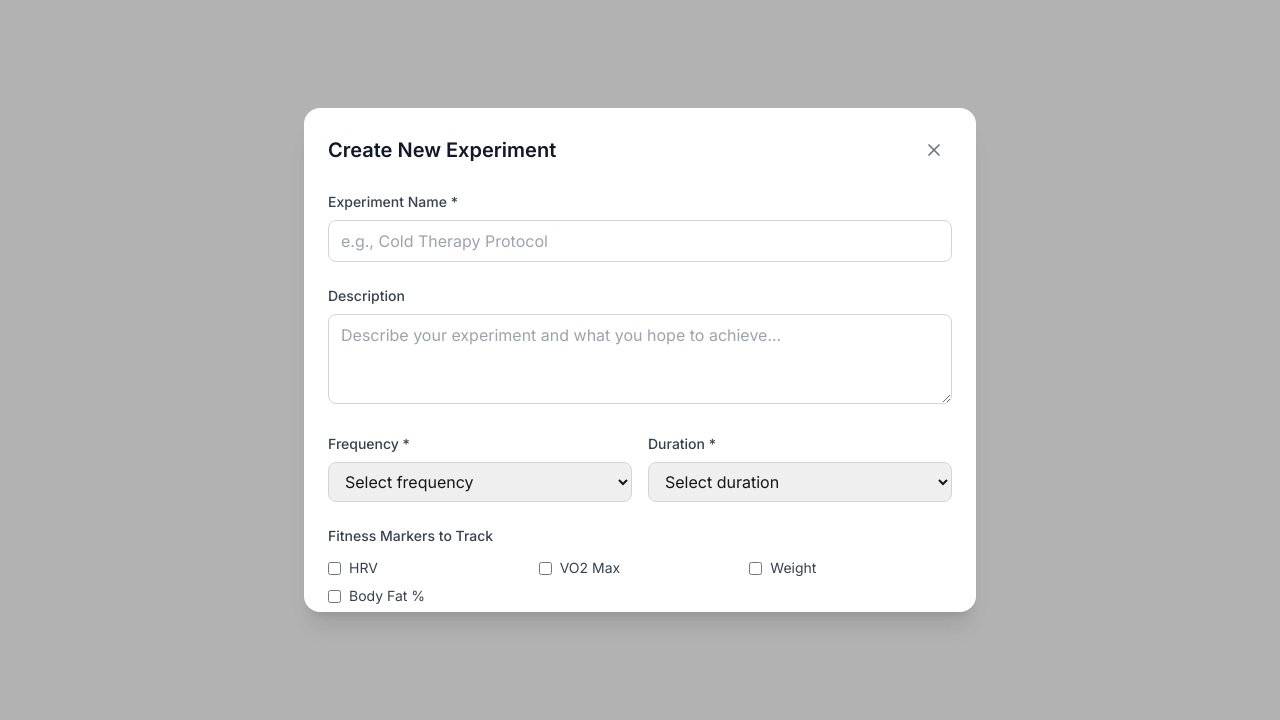
AddExperimentModal › validates required fields - duration
This screenshot has width=1280, height=720.
Type "Test Experiment" into the field labelled "Experiment Name *" at [640, 241], box [328,220,952,262]
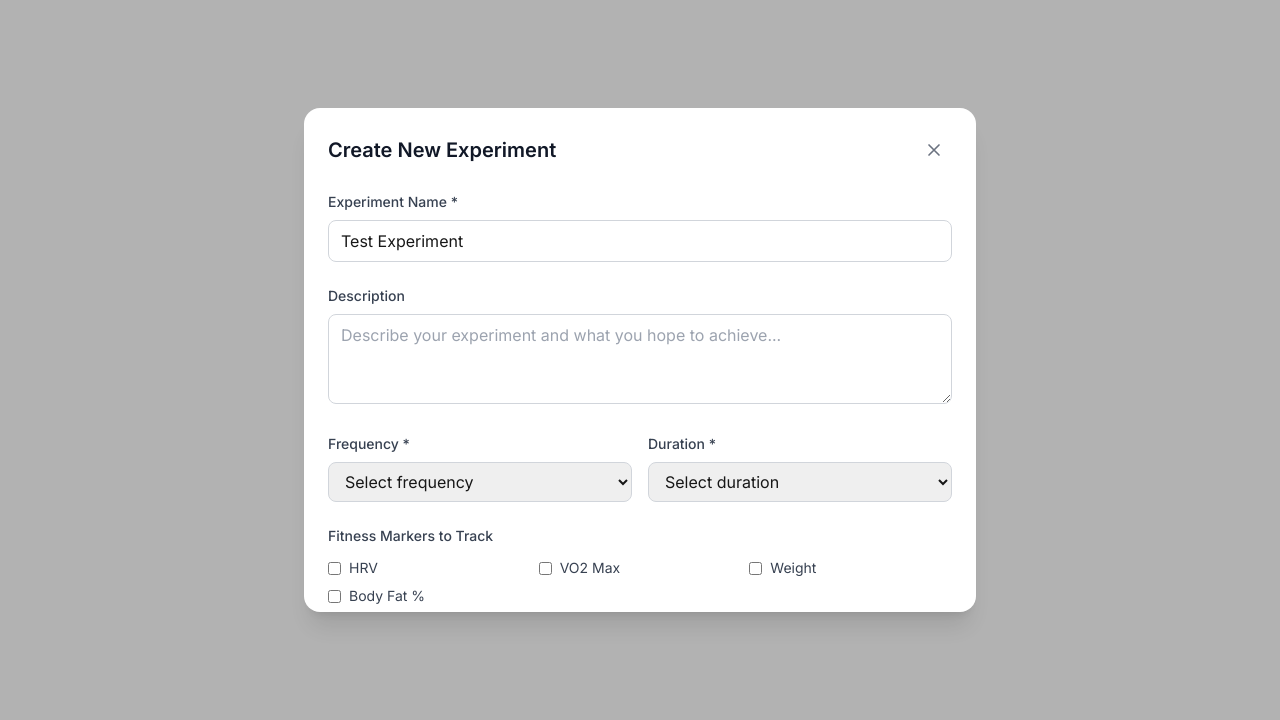
Select "Daily" in the dropdown labelled "Frequency *" at [480, 482], box [328,462,632,502]
(page scrolled)
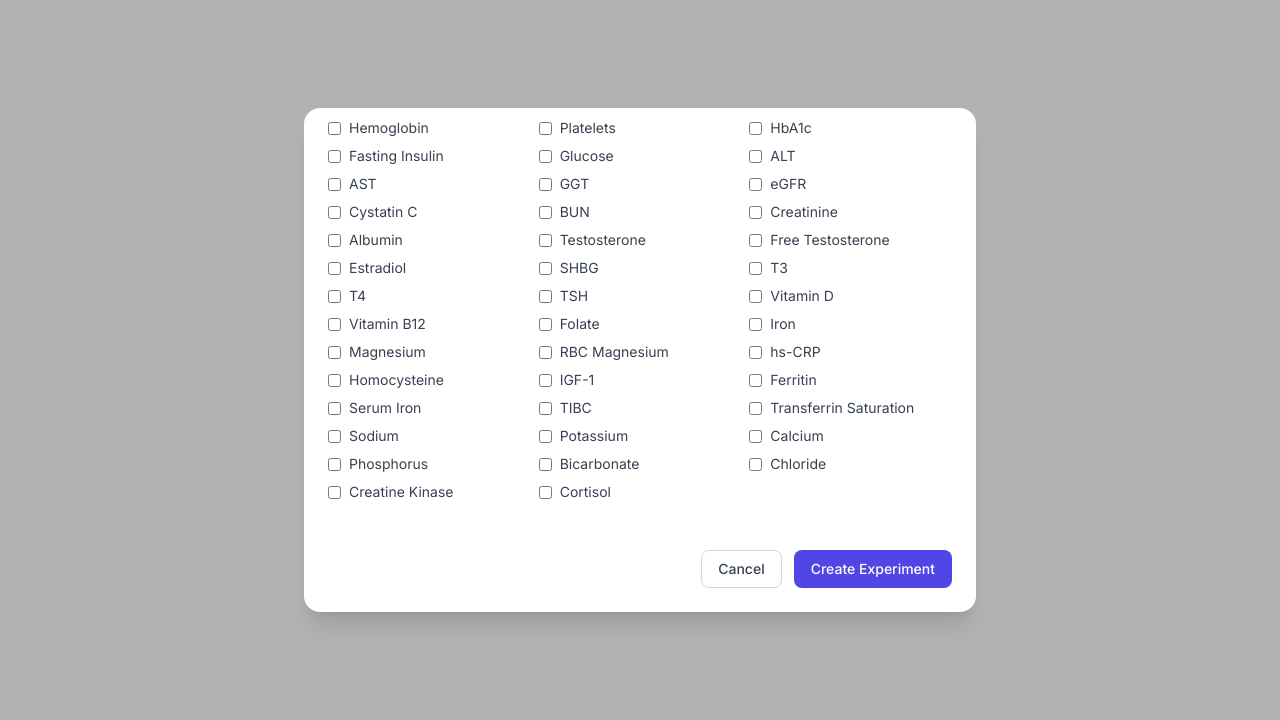
Click the button "Create Experiment" at [873, 569], box [794,550,952,588]
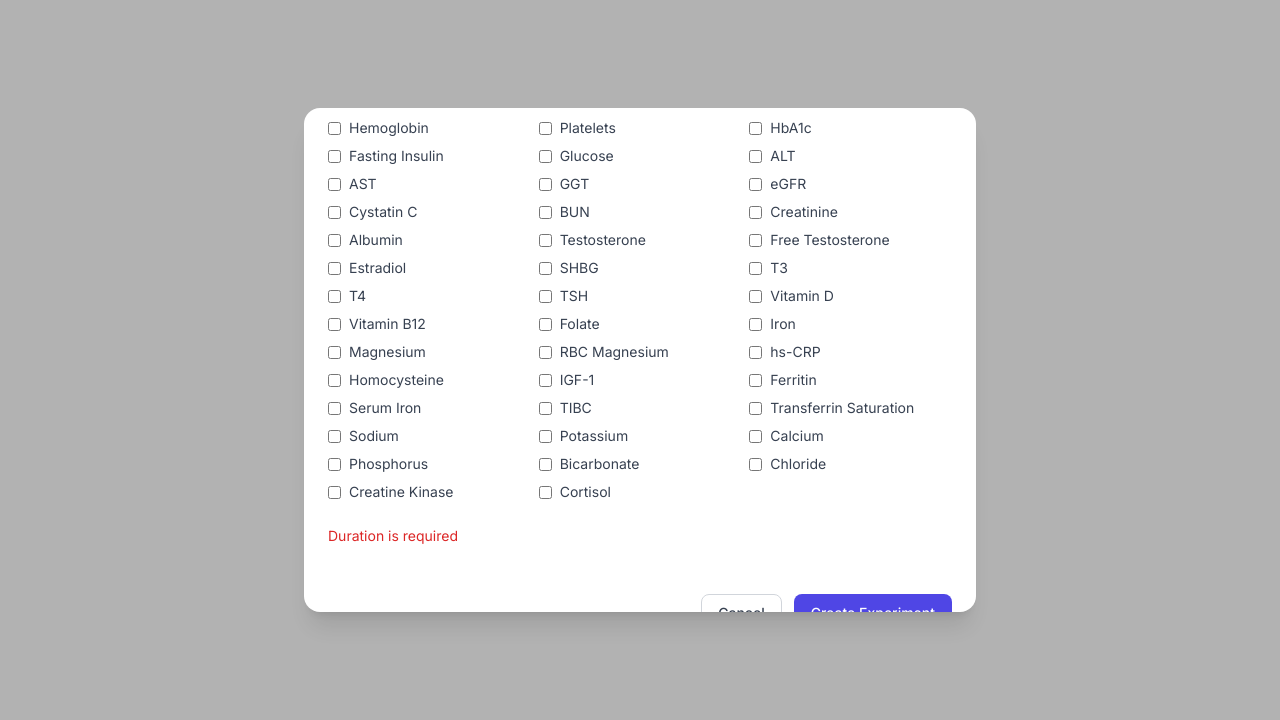
Expected: the text "Duration is required" is shown, [328,527,458,544]
